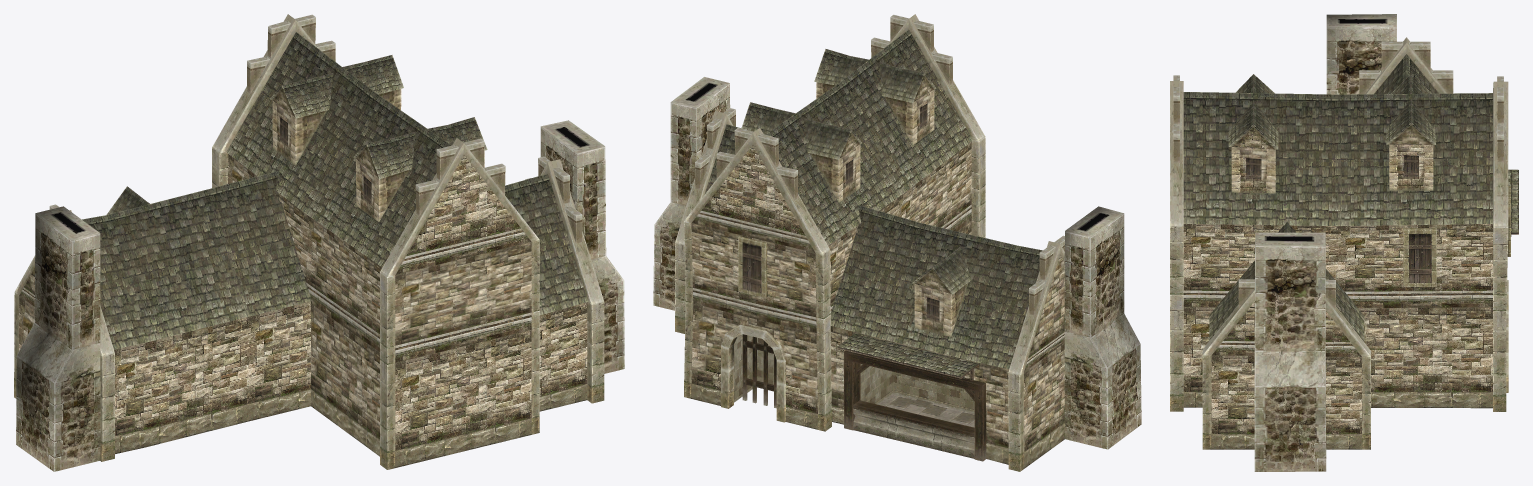
The model's file is OZ_09_sn_T03shop01C.glb.
3 views of the same model, side by side, from view 1: azimuth 30°, elevation 25°; view 2: azimuth 150°, elevation 25°; view 3: azimuth 270°, elevation 25° (orthographic). The views are drawn at different scales.
Visible parts, largest first — view 1: OM_09_sn_T03shop01C; view 2: OM_09_sn_T03shop01C; view 3: OM_09_sn_T03shop01C.
Part boxes in pixels (<box>): OM_09_sn_T03shop01C: <box>14,14,624,471</box>; OM_09_sn_T03shop01C: <box>653,14,1141,471</box>; OM_09_sn_T03shop01C: <box>1170,14,1518,471</box>.
Bounding box in the file's own units: 21.27 × 11.73 × 12.57.
5 materials, 5 textured.
